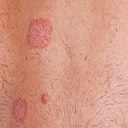Psoriasis: (26, 18, 53, 48), (10, 99, 29, 124)
